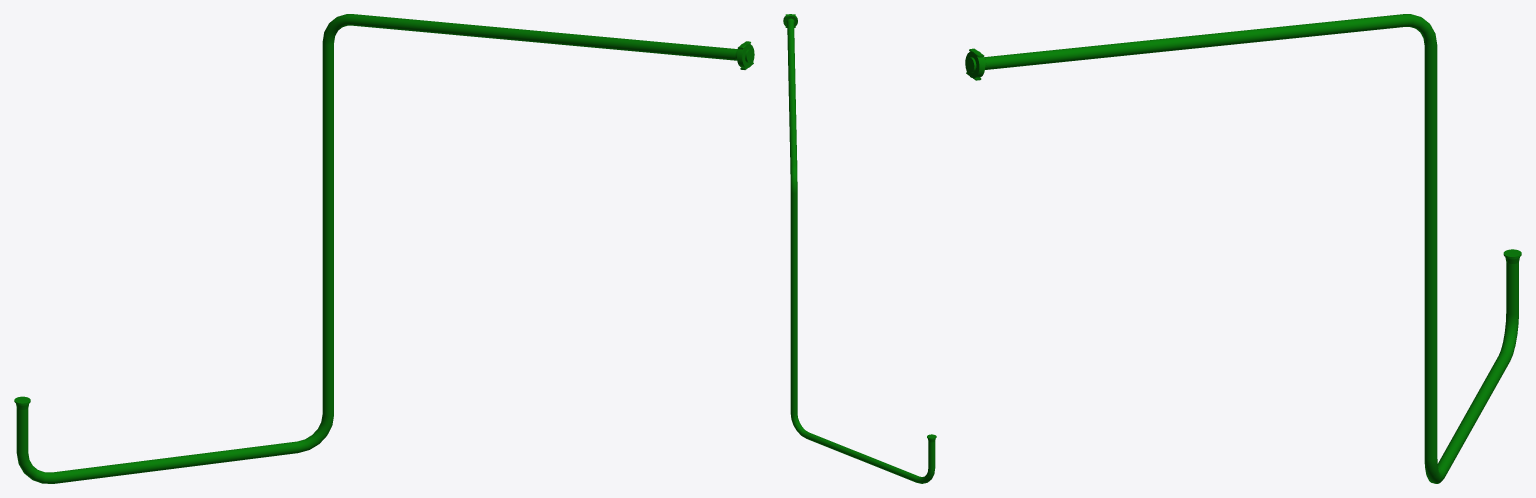
The model's file is Image-1710907554762-2281405400464_BRIDGE-SEAWATER.fbx.
The picture shows the model from 3 angles, left to right: view 1: azimuth 30°, elevation 25°; view 2: azimuth 150°, elevation 25°; view 3: azimuth 270°, elevation 25°; orthographic projection. The views are drawn at different scales.
Visible parts, largest first — view 1: Cylinder (×3); view 2: Cylinder (×4), ELBOW 1 of BRANCH 1 of PIPE /BRIDGE-SEAWATER, ELBOW 2 of BRANCH 1 of PIPE /BRIDGE-SEAWATER; view 3: Cylinder (×4).
Part boxes in pixels (<box>): Cylinder (×3): <box>53,14,737,483</box>; Cylinder (×4): <box>787,21,935,482</box>; ELBOW 1 of BRANCH 1 of PIPE /BRIDGE-SEAWATER: <box>790,165,797,193</box>; ELBOW 2 of BRANCH 1 of PIPE /BRIDGE-SEAWATER: <box>790,413,808,437</box>; Cylinder (×4): <box>984,14,1518,476</box>.
Bounding box in the file's own units: 8.27 × 7.23 × 7.99.
